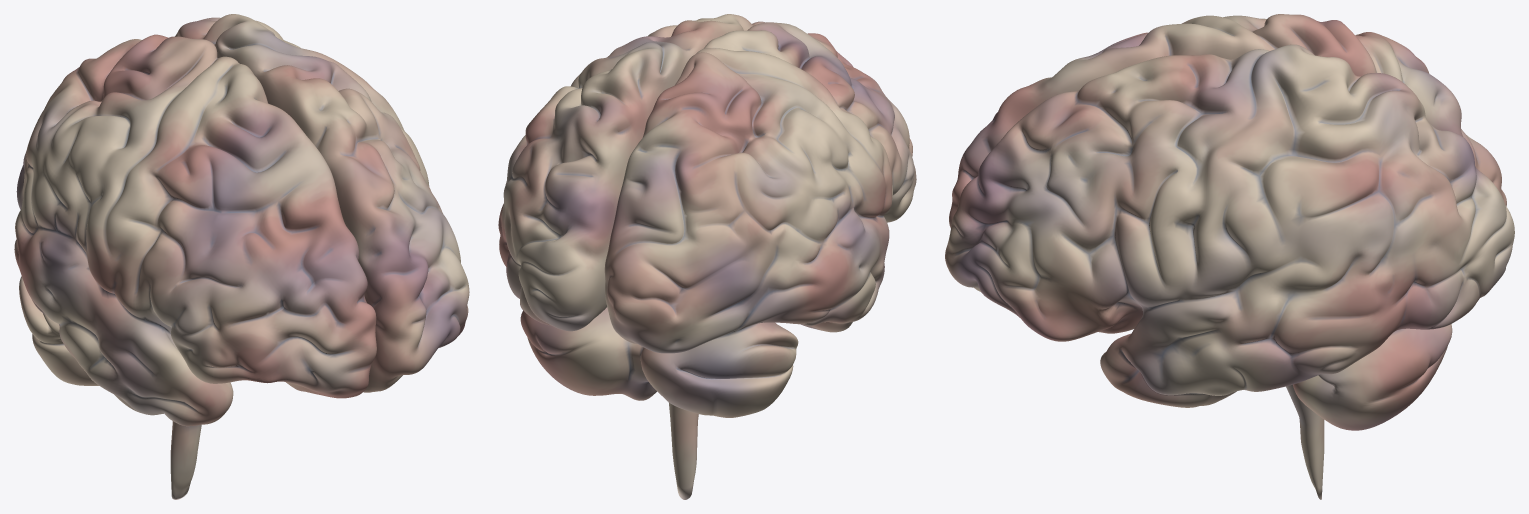
File: painted-brain.glb
3 views of the same model, side by side, from view 1: azimuth 30°, elevation 25°; view 2: azimuth 150°, elevation 25°; view 3: azimuth 270°, elevation 25° (orthographic). The views are drawn at different scales.
Parts seen in each view (by area): view 1: Brain | painted cortex.001; view 2: Brain | painted cortex.001; view 3: Brain | painted cortex.001.
Part boxes in pixels (<box>): Brain | painted cortex.001: <box>14,14,469,499</box>; Brain | painted cortex.001: <box>498,14,916,499</box>; Brain | painted cortex.001: <box>945,14,1514,499</box>.
Size of the model in its own units: 2.59 by 3.26 by 3.5.
